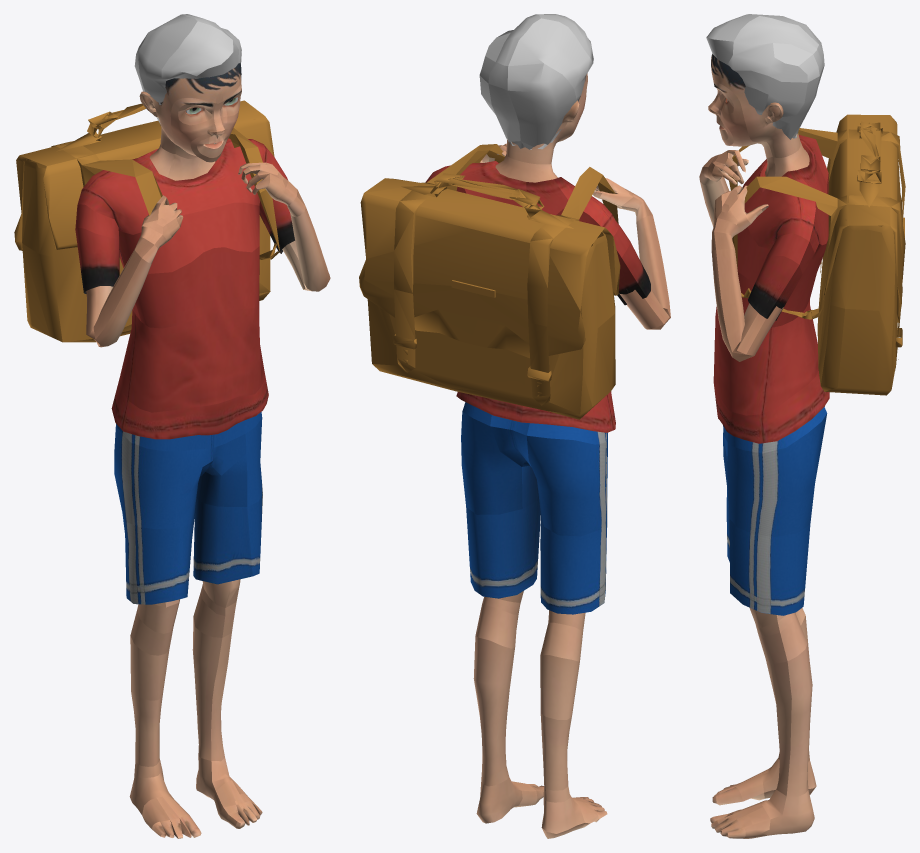
File: child with bag.fbx
3 views of the same model, side by side, from view 1: azimuth 30°, elevation 25°; view 2: azimuth 150°, elevation 25°; view 3: azimuth 270°, elevation 25° (orthographic).
Parts seen in each view (by area): view 1: child_with_bag; view 2: child_with_bag; view 3: child_with_bag.
Part boxes in pixels (x1,y1,x2,y2): child_with_bag: [14, 14, 330, 838]; child_with_bag: [359, 14, 670, 838]; child_with_bag: [699, 14, 905, 838].
Bounding box in the file's own units: 0.1775 × 0.5659 × 0.1318.
